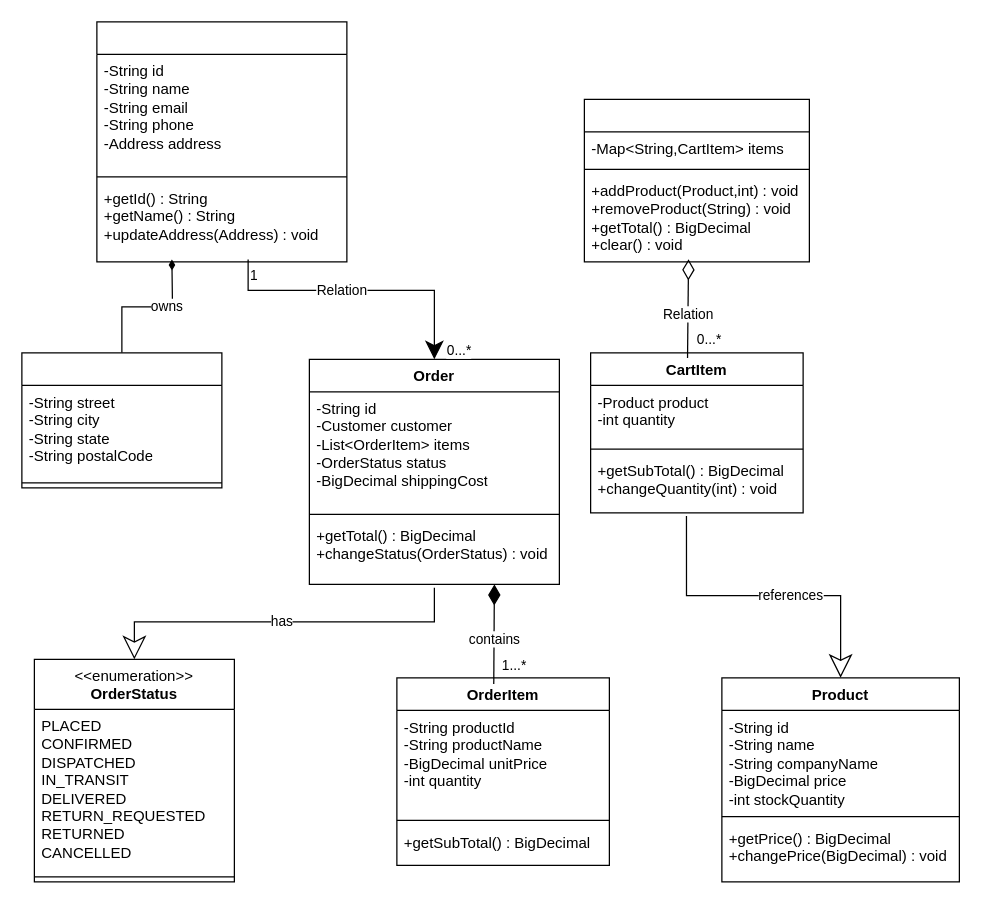
The diagram is 981 pixels wide and 908 high, and some of its shapes have lost their labels. The box of each missing label's shape, as (x1, y1, x2, y2) in pixels:
Address: (21, 352, 222, 488)
Customer: (96, 21, 347, 262)
ShoppingCart: (583, 98, 809, 262)
